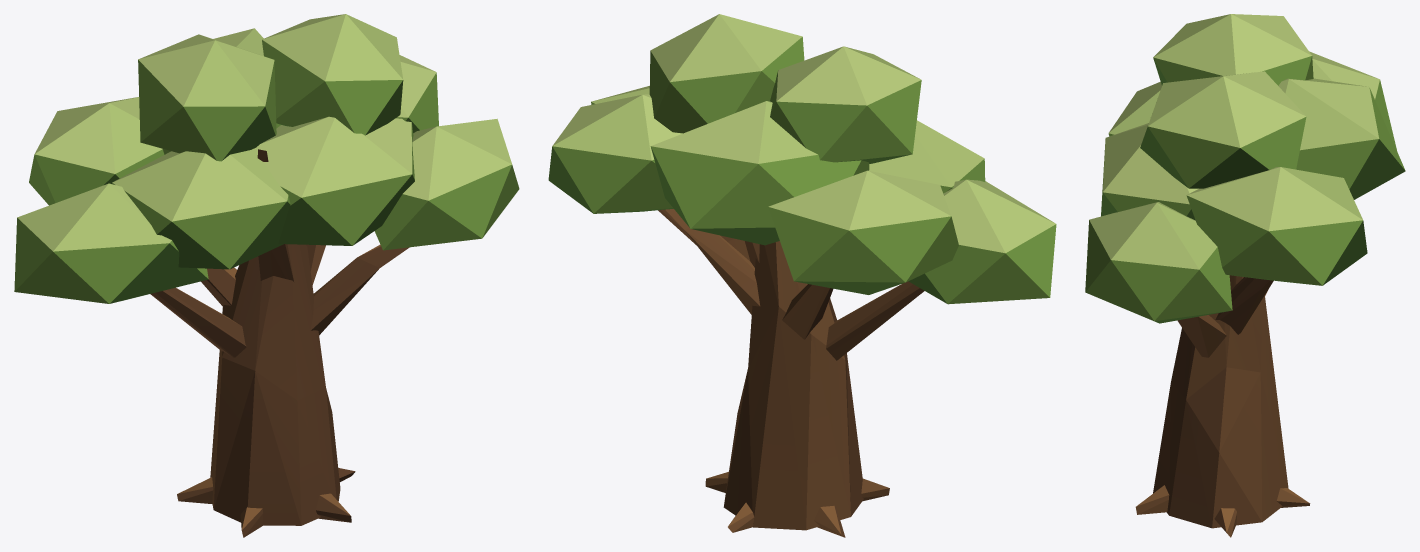
3 renders of one model, left to right at view 1: azimuth 30°, elevation 25°; view 2: azimuth 150°, elevation 25°; view 3: azimuth 270°, elevation 25°, orthographic. The views are drawn at different scales.
Parts seen in each view (by area): view 1: WK_Tree_Oak_SpringBroad_LOD1_Balanced; view 2: WK_Tree_Oak_SpringBroad_LOD1_Balanced; view 3: WK_Tree_Oak_SpringBroad_LOD1_Balanced.
Part boxes in pixels (x1=…): WK_Tree_Oak_SpringBroad_LOD1_Balanced: x1=14, y1=14, x2=519, y2=537; WK_Tree_Oak_SpringBroad_LOD1_Balanced: x1=548, y1=14, x2=1056, y2=537; WK_Tree_Oak_SpringBroad_LOD1_Balanced: x1=1085, y1=14, x2=1405, y2=537.
Size of the model in its own units: 5.86 by 5.7 by 3.55.
